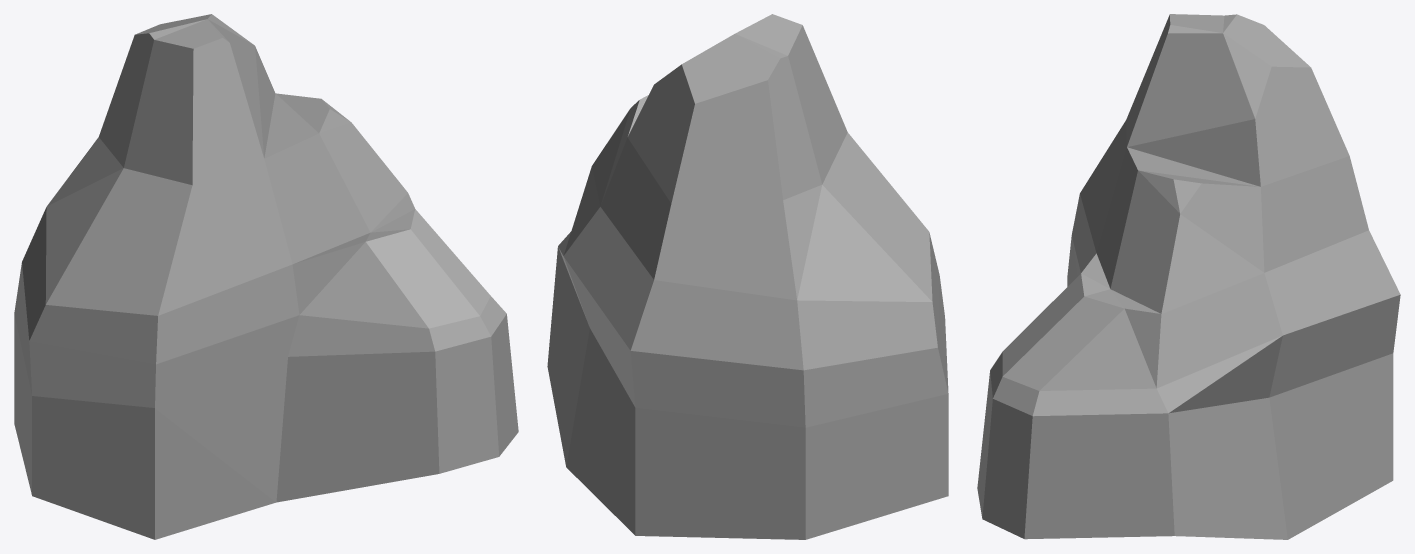
File: Rock_Round_l_03.fbx
3 renders of one model, left to right at view 1: azimuth 30°, elevation 25°; view 2: azimuth 150°, elevation 25°; view 3: azimuth 270°, elevation 25°, orthographic. The views are drawn at different scales.
Parts seen in each view (by area): view 1: Rock_Round_l_03; view 2: Rock_Round_l_03; view 3: Rock_Round_l_03.
Boxes of the visible parts, x1,y1,x2,y2 form: Rock_Round_l_03: (14, 14, 518, 539); Rock_Round_l_03: (547, 14, 948, 539); Rock_Round_l_03: (977, 14, 1400, 539).
Bounding box in the file's own units: 2.4 × 2.47 × 2.13.
